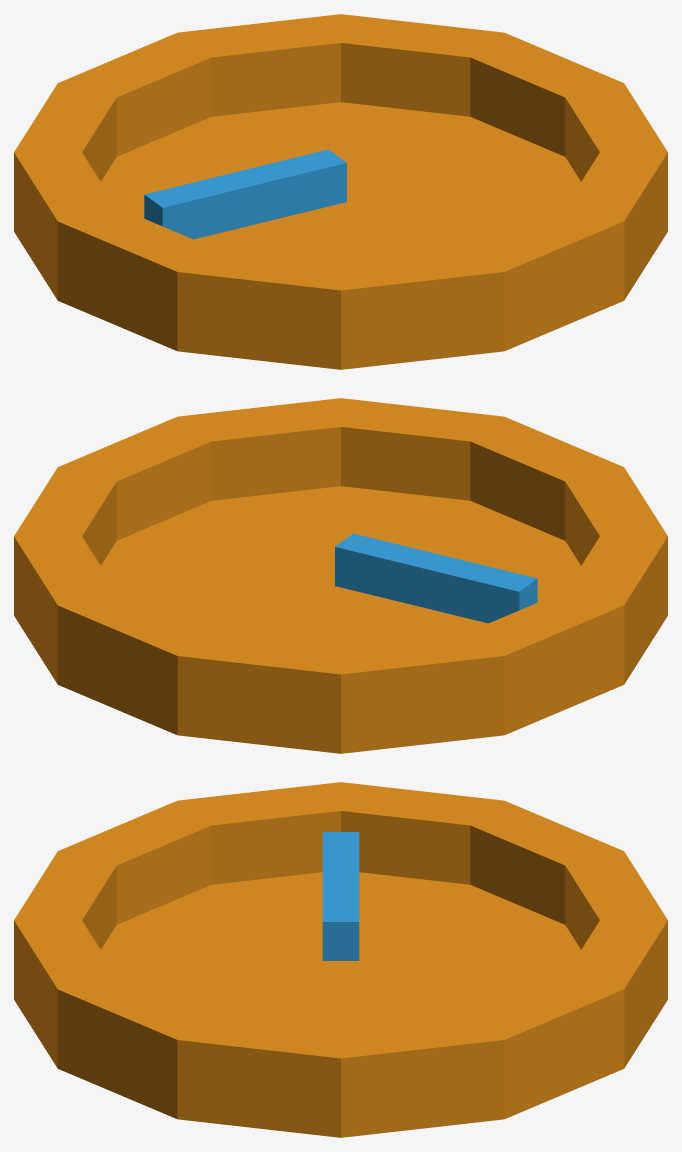
The model's file is timer.fbx.
3 renders of one model, top to bottom at view 1: azimuth 30°, elevation 25°; view 2: azimuth 150°, elevation 25°; view 3: azimuth 270°, elevation 25°, orthographic.
Visible parts, largest first — view 1: Cylinder, Cube; view 2: Cylinder, Cube; view 3: Cylinder, Cube.
Part boxes in pixels (x1,y1,x2,y2): Cylinder: [14, 14, 667, 369]; Cube: [144, 149, 346, 239]; Cylinder: [14, 398, 667, 753]; Cube: [335, 533, 537, 623]; Cylinder: [14, 782, 667, 1137]; Cube: [322, 832, 359, 960].
Size of the model in its own units: 200 by 26.79 by 200.
